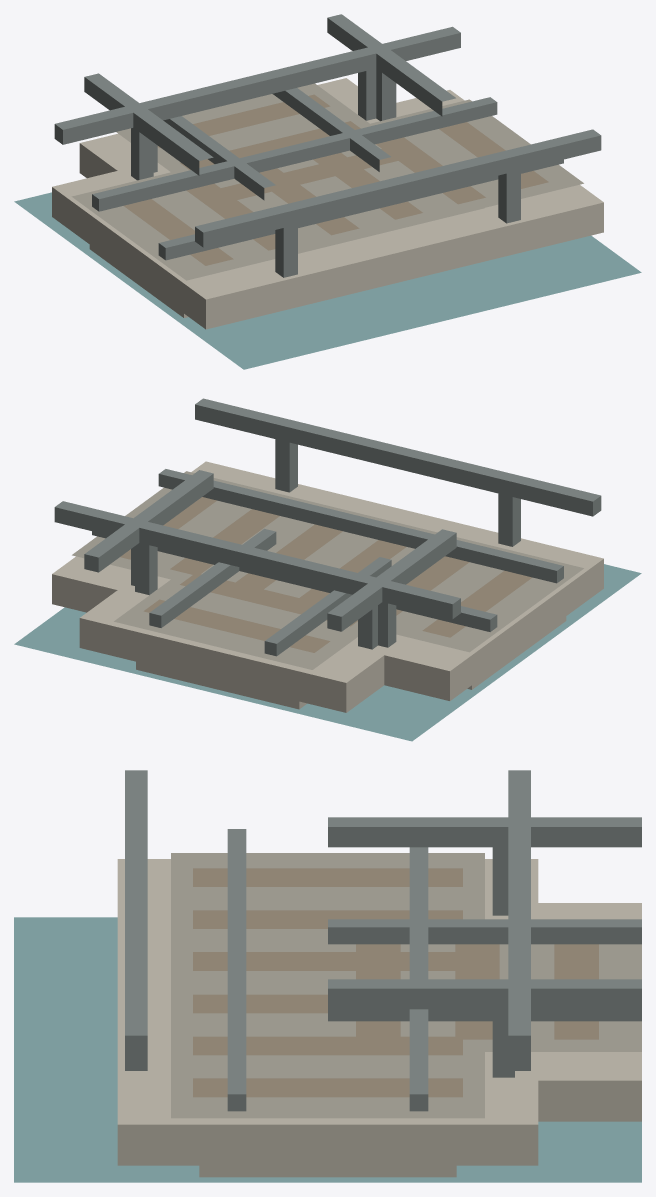
3 views of the same model, one above another, from view 1: azimuth 30°, elevation 25°; view 2: azimuth 150°, elevation 25°; view 3: azimuth 270°, elevation 25° (orthographic). The views are drawn at different scales.
Visible parts, largest first — view 1: Near; view 2: Near; view 3: Near.
Part boxes in pixels (<box>): Near: <box>14,14,641,369</box>; Near: <box>14,398,641,741</box>; Near: <box>14,770,641,1182</box>.
Bounding box in the file's own units: 1 × 0.258 × 1.
